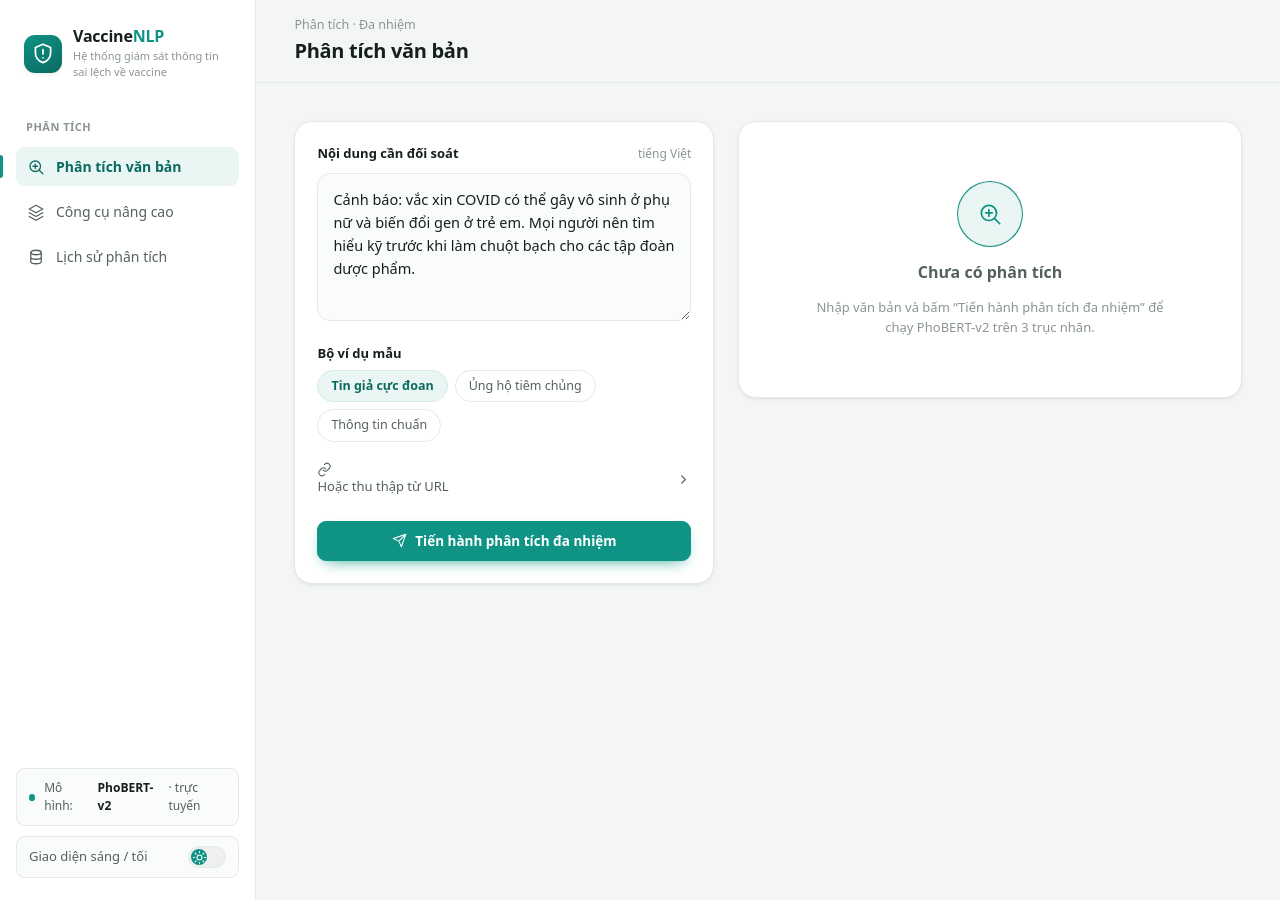
Scenario: VaccineNLP React Frontend Unit Tests › crawls a URL and fills the batch textarea
The width and height of the screenshot is (1280, 900).
Click the button "Công cụ nâng cao".
click(128, 212)  # box [16,192,239,231]
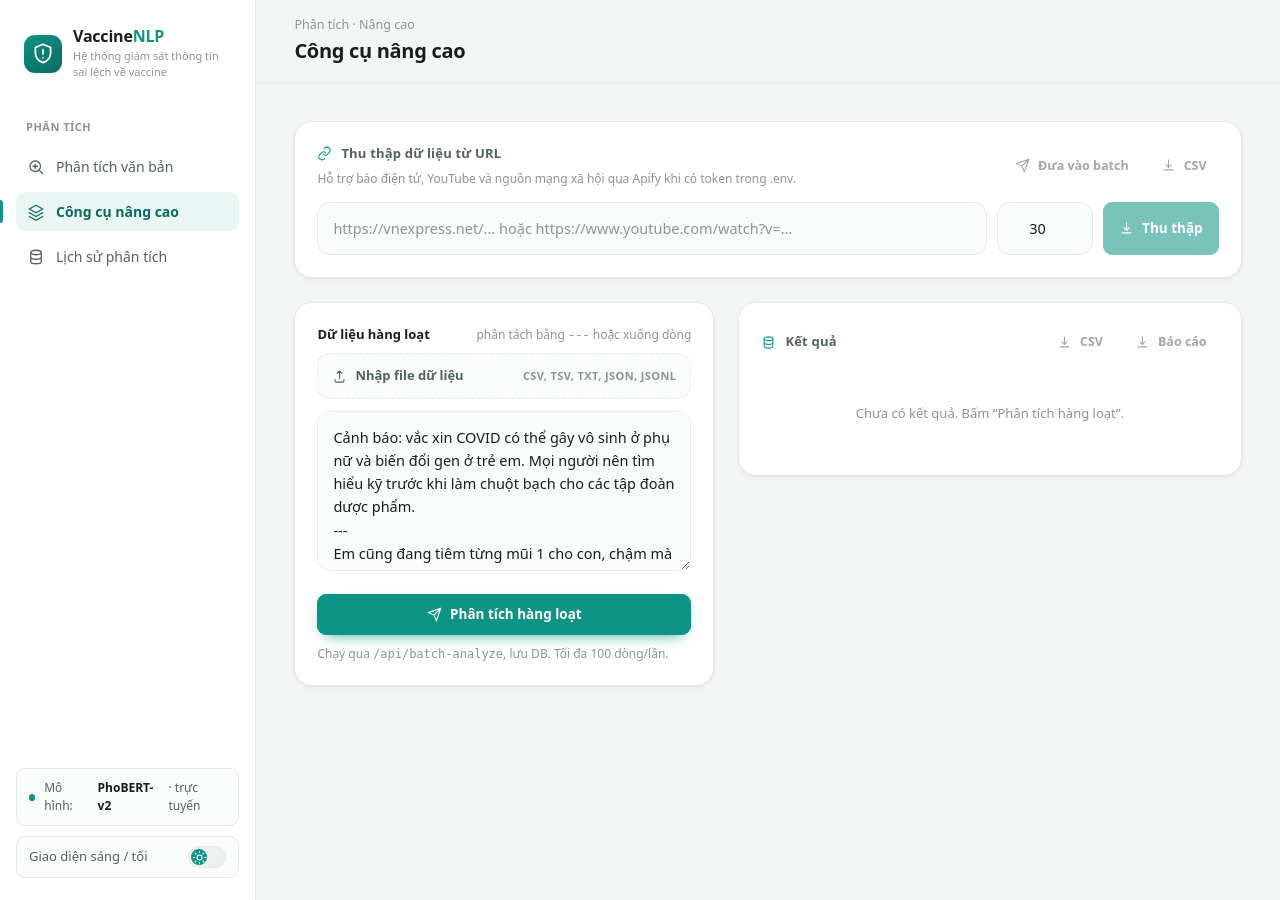
Replace the text in the field with placeholder "youtube.com" with "https://vnexpress.net/vaccine-demo" at [652, 228], box [317,202,987,255]
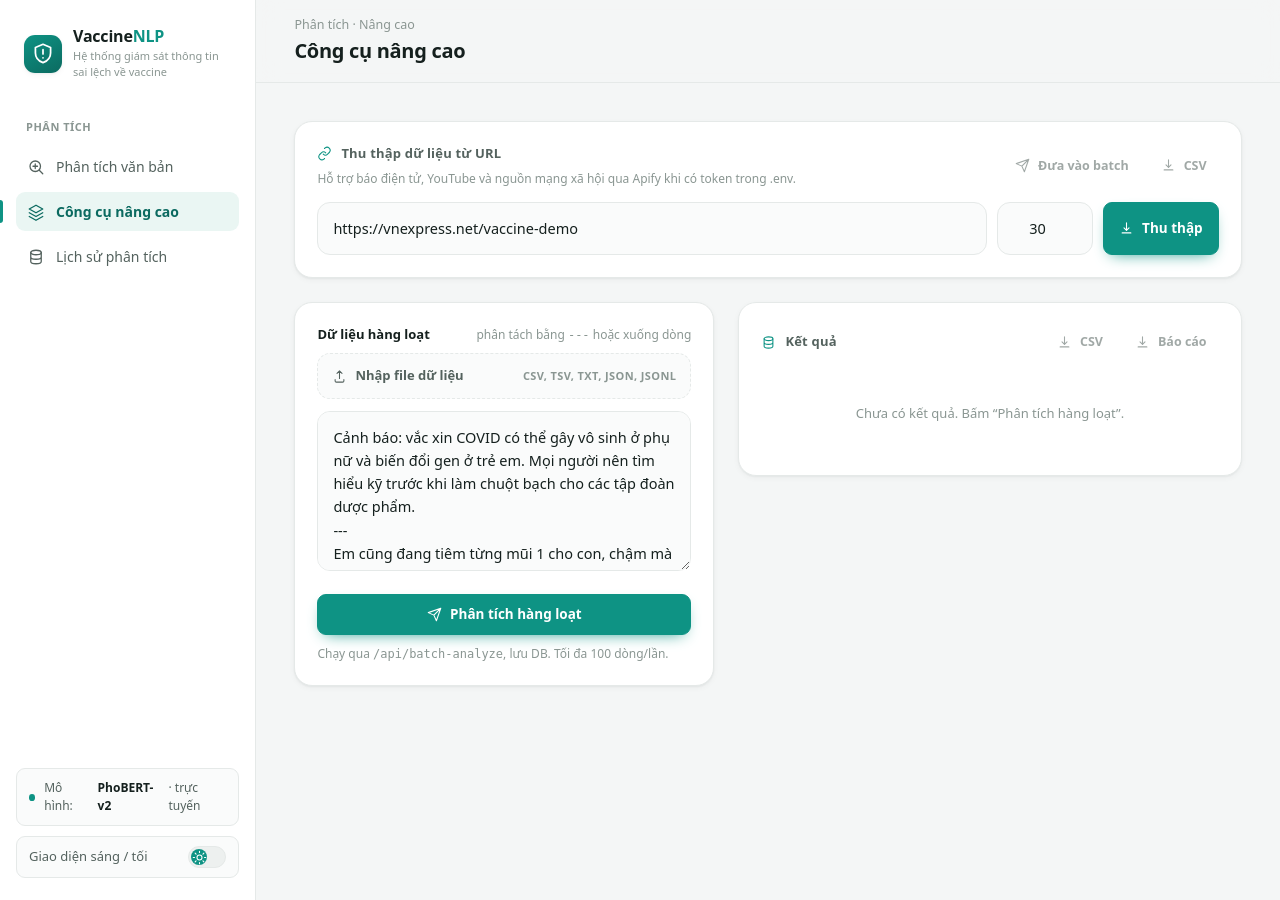
Click the button "Thu thập".
click(1161, 228)  # box [1103,202,1219,255]
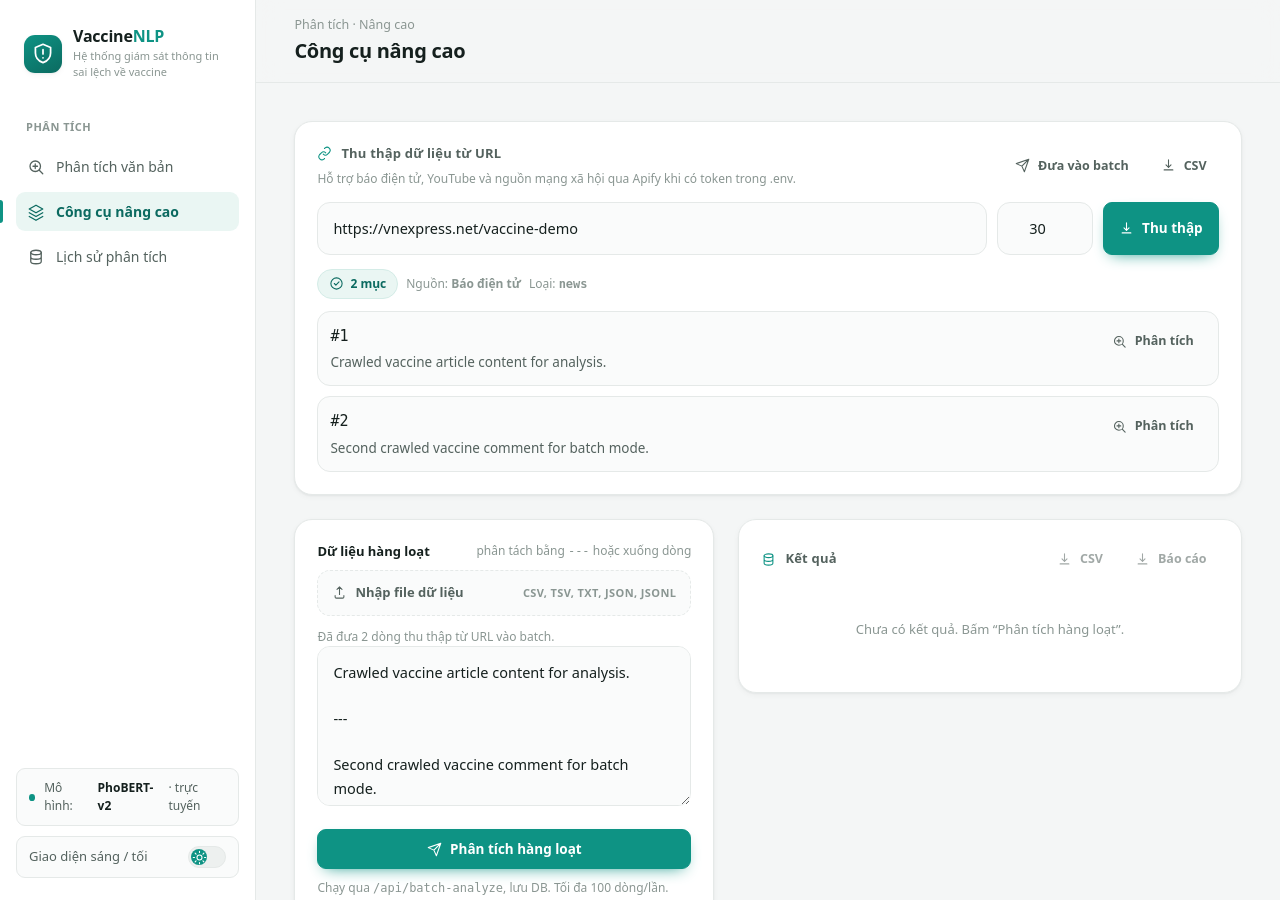
Now the text "2 mục" is shown, box [317,269,398,299]
